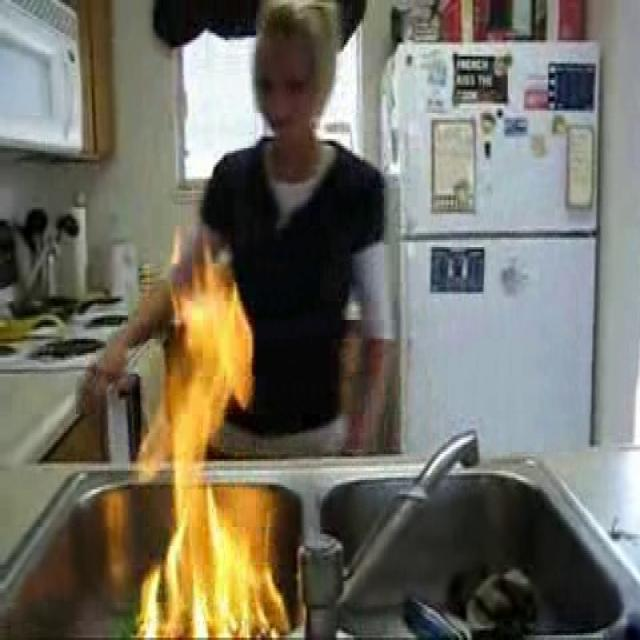Fire: (138, 271, 286, 640)
